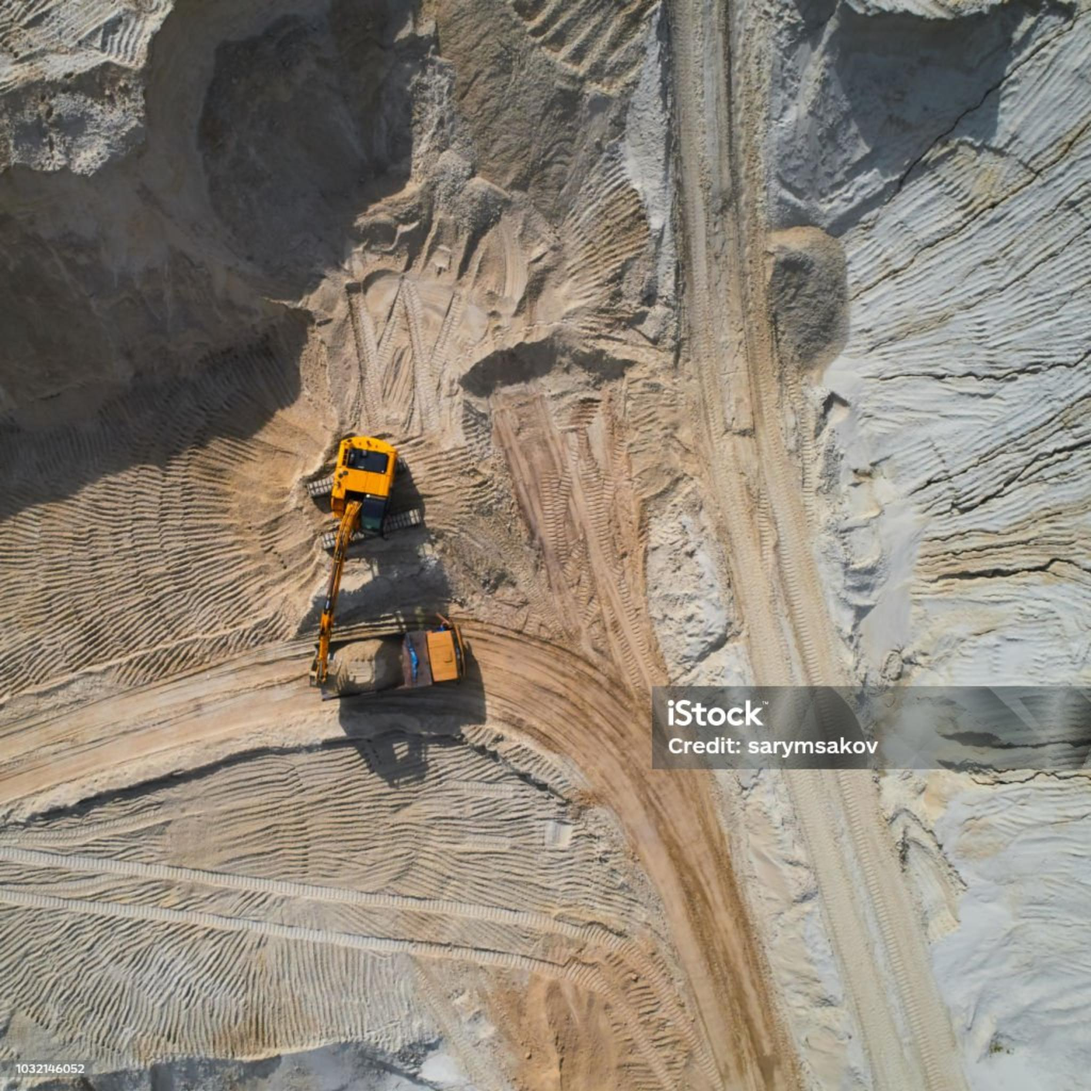benches: (473, 624, 800, 1090), (668, 0, 852, 684), (785, 770, 958, 1088), (0, 649, 310, 798)
excavator: (296, 408, 405, 653)
truck: (328, 623, 485, 703)
